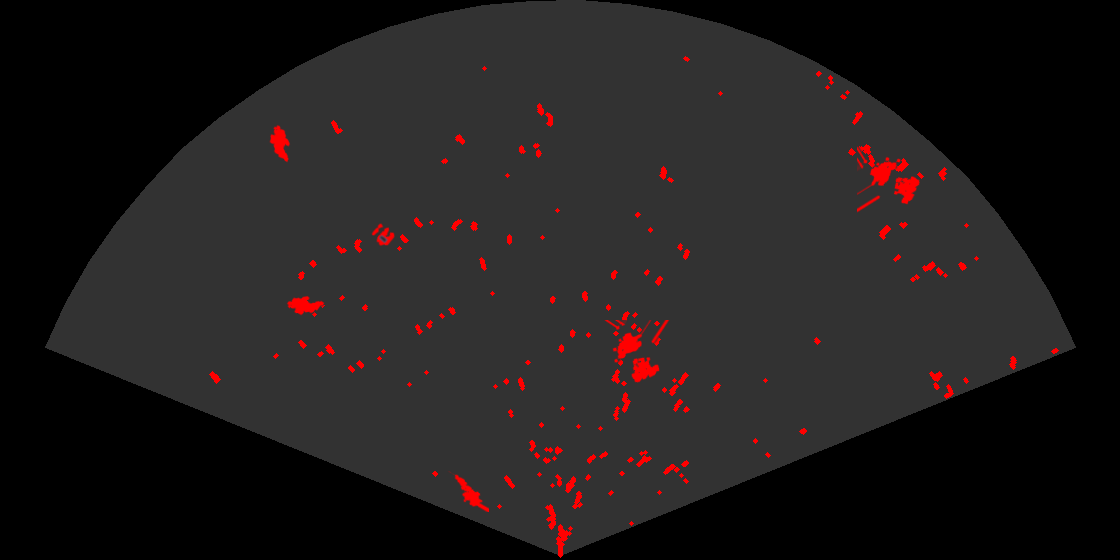AUV: (268, 123, 292, 164), (285, 294, 326, 317)
ball: (370, 222, 396, 248)
cage: (857, 145, 921, 214), (603, 320, 671, 384)
frogman: (447, 471, 489, 512)
